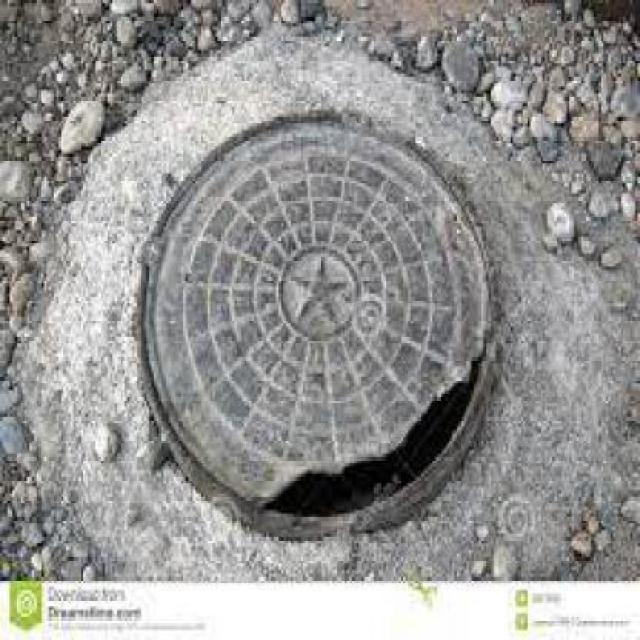Open Manhole: (124, 100, 518, 551)
